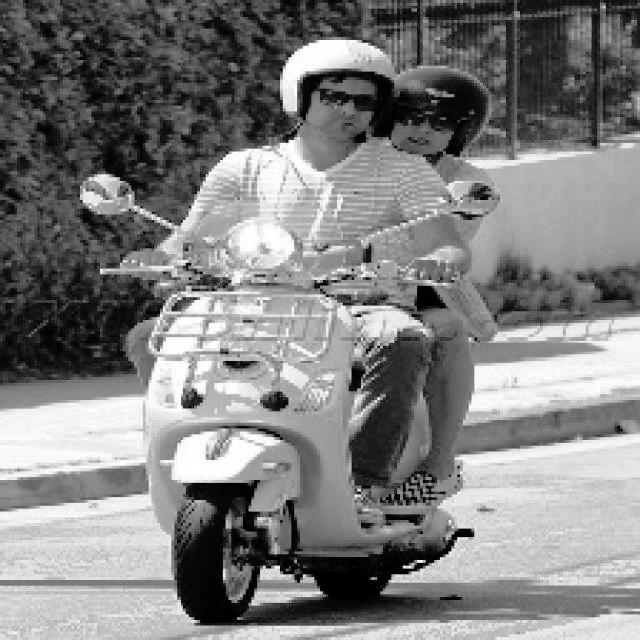Bike: (120, 249, 394, 631)
